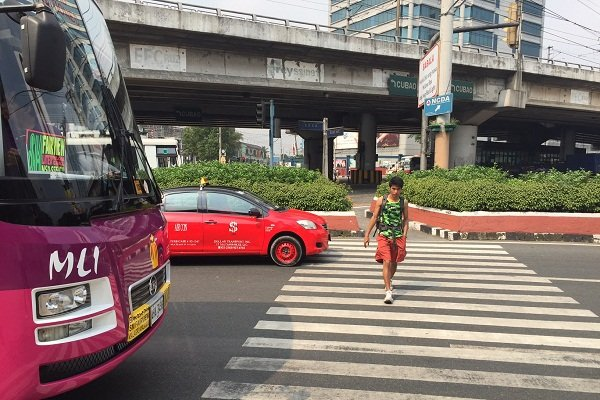bus: (1, 1, 171, 399)
car: (160, 179, 331, 269)
pedestrian lane: (213, 241, 600, 400)
person: (363, 176, 409, 305)
pole: (434, 1, 449, 169), (268, 99, 274, 164), (322, 118, 328, 176)
traffic light: (255, 97, 265, 127)
